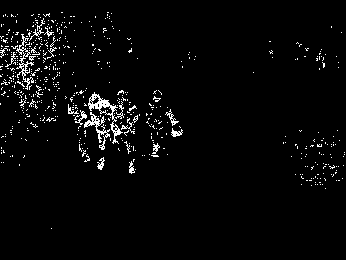person: (145, 86, 181, 173), (114, 88, 139, 186), (69, 88, 93, 173), (94, 89, 112, 181)
